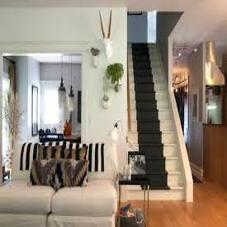Stair Up: (122, 43, 186, 202)
